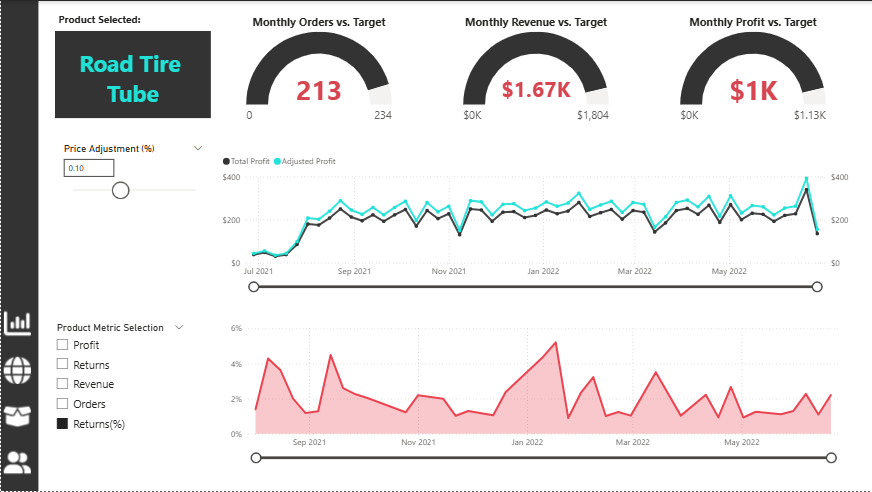

The dashboard page shown, as its layout file describes it:
{"tool":"powerbi","page":{"name":"Product Details","canvas":[1280,720],"ordinal":2},"visuals":[{"type":"shape","box":[0,0,55,720],"z":0},{"type":"gauge","title":"Monthly Orders vs. Target","fields":{"Y":["Measure Table (DAX).Total Orders"],"MaxValue":["Measure Table (DAX).Order Target"]},"box":[332.1,19.1,270.4,169],"z":2},{"type":"gauge","title":"Monthly Revenue vs. Target","fields":{"Y":["Measure Table (DAX).Total Revenue"],"MaxValue":["Measure Table (DAX).Revenue Target"]},"box":[650.9,19.1,270.4,169],"z":3},{"type":"gauge","title":"Monthly Profit vs. Target","fields":{"Y":["Measure Table (DAX).Total Profit"],"MaxValue":["Measure Table (DAX).Profit Target"]},"box":[969.8,19.1,270.4,169],"z":4},{"type":"lineChart","title":"Profit Trending","fields":{"Category":["Calendar Lookup.Year Hierarchy.Start of Year","Calendar Lookup.Year Hierarchy.Start of Month","Calendar Lookup.Year Hierarchy.Start of Week","Calendar Lookup.Year Hierarchy.Date"],"Y":["Measure Table (DAX).Total Profit"],"Y2":["Measure Table (DAX).Adjusted Profit"]},"box":[320.3,216,930.1,214.5],"z":5},{"type":"areaChart","title":"Returns Trending","fields":{"Category":["Calendar Lookup.Year Hierarchy.Start of Year","Calendar Lookup.Year Hierarchy.Start of Month","Calendar Lookup.Year Hierarchy.Start of Week","Calendar Lookup.Year Hierarchy.Date"],"Y":["Measure Table (DAX).Returns Rate"]},"box":[332.1,467.3,918.4,214.5],"z":6},{"type":"card","fields":{"Values":["Min(Product Lookup.ProductName)"]},"box":[79.3,44.1,229.2,127.8],"z":7},{"type":"textbox","box":[79.3,11.8,145.5,32.3],"z":8},{"type":"actionButton","box":[0,450.1,54.4,48.5],"z":9},{"type":"actionButton","box":[0,518.2,54.4,48.5],"z":10},{"type":"actionButton","box":[0,586.3,54.4,48.5],"z":11},{"type":"actionButton","box":[0,654.4,54.4,48.5],"z":12},{"type":"slicer","fields":{"Values":["Price Adjustment.Price Adjustment"]},"box":[79.3,204.2,229.2,180.7],"z":13},{"type":"slicer","fields":{"Values":["Product Metric Selection.Product Metric Selection"]},"box":[69.1,467.3,211.6,186.6],"z":14}]}

Visuals, with their boxes on the page's 1280x720 design canvas (x1, y1, x2, y2). These are canvas units, not pixel positions in the 872x492 screenshot, which may show the page scaled, cropped or inside an application window:
shape: <box>0,0,55,720</box>
"Monthly Orders vs. Target" gauge: <box>332,19,602,188</box>
"Monthly Revenue vs. Target" gauge: <box>651,19,921,188</box>
"Monthly Profit vs. Target" gauge: <box>970,19,1240,188</box>
"Profit Trending" lineChart: <box>320,216,1250,430</box>
"Returns Trending" areaChart: <box>332,467,1250,682</box>
card - Min(Product Lookup.ProductName): <box>79,44,308,172</box>
textbox: <box>79,12,225,44</box>
actionButton: <box>0,450,54,499</box>
actionButton: <box>0,518,54,567</box>
actionButton: <box>0,586,54,635</box>
actionButton: <box>0,654,54,703</box>
slicer - Price Adjustment.Price Adjustment: <box>79,204,308,385</box>
slicer - Product Metric Selection.Product Metric Selection: <box>69,467,281,654</box>
